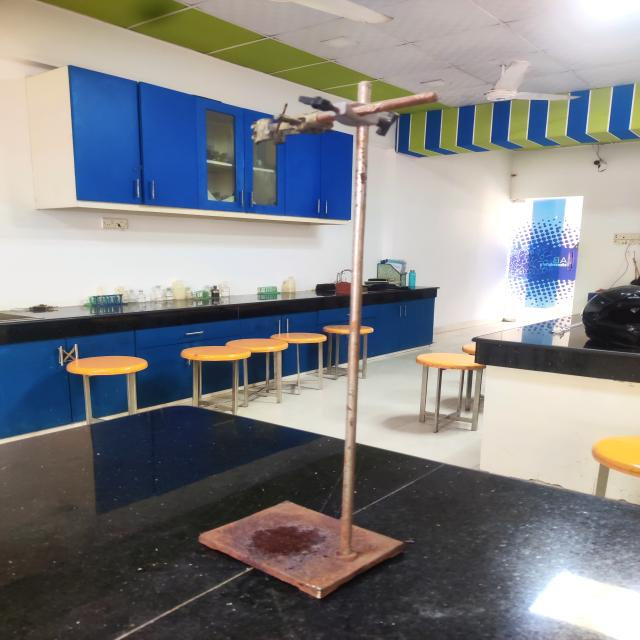Burette_Stands: (173, 59, 471, 621)
